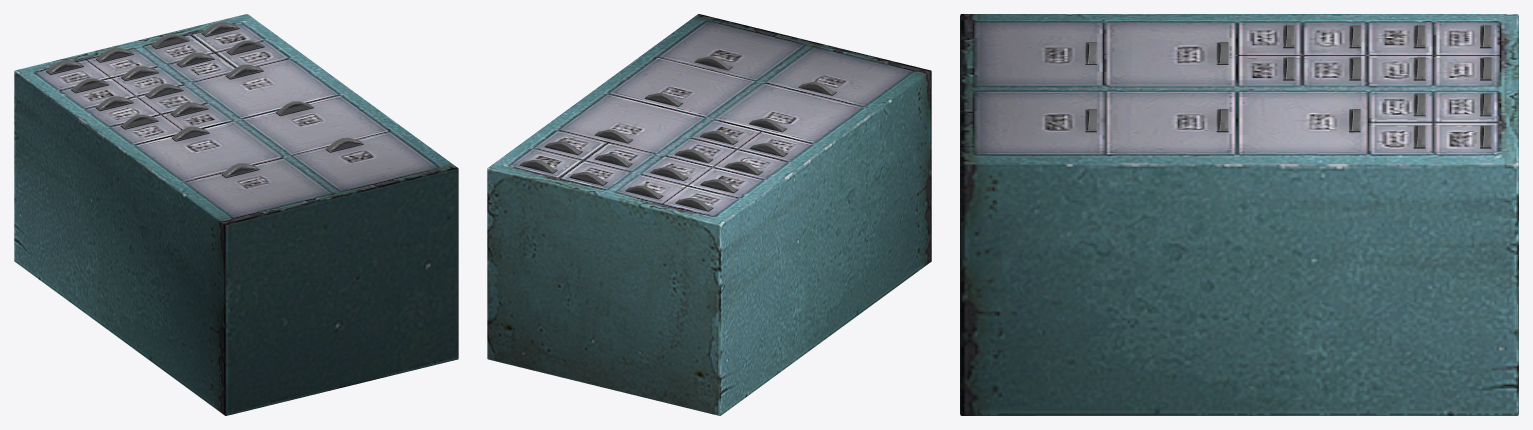
Rendered from drawer_electronics_01.DAE.
3 views of the same model, side by side, from view 1: azimuth 30°, elevation 25°; view 2: azimuth 150°, elevation 25°; view 3: azimuth 270°, elevation 25° (orthographic). The views are drawn at different scales.
Visible parts, largest first — view 1: drawers_electronics_01; view 2: drawers_electronics_01; view 3: drawers_electronics_01.
Part boxes in pixels (x1,y1,x2,y2): drawers_electronics_01: (14,14,458,415); drawers_electronics_01: (487,14,931,415); drawers_electronics_01: (960,14,1518,415).
Size of the model in its own units: 0.3185 by 0.4996 by 0.2599.
